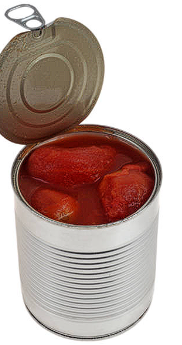Danificado: (0, 3, 176, 237)
